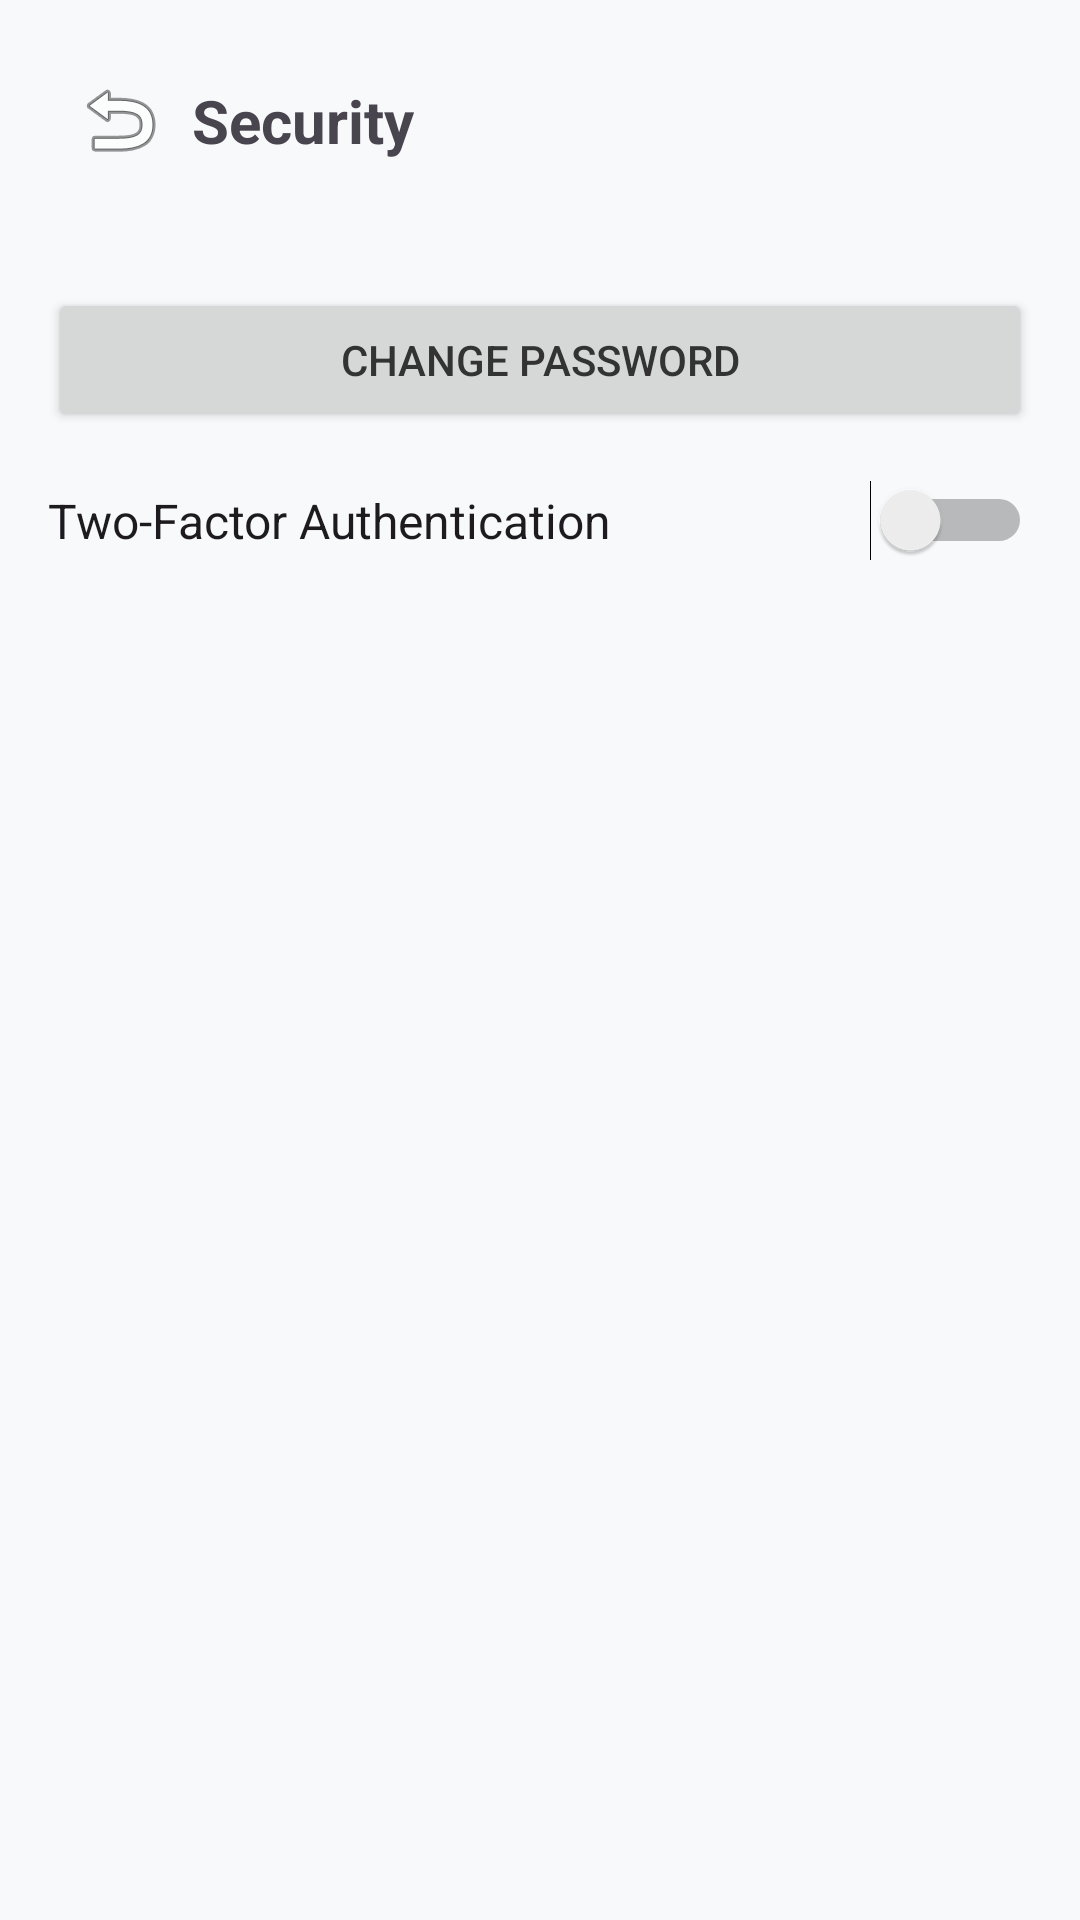

Named icons in this screenshot (1080*1920) and their centers, (x=x, y=y):
Back: (x=121, y=120)
